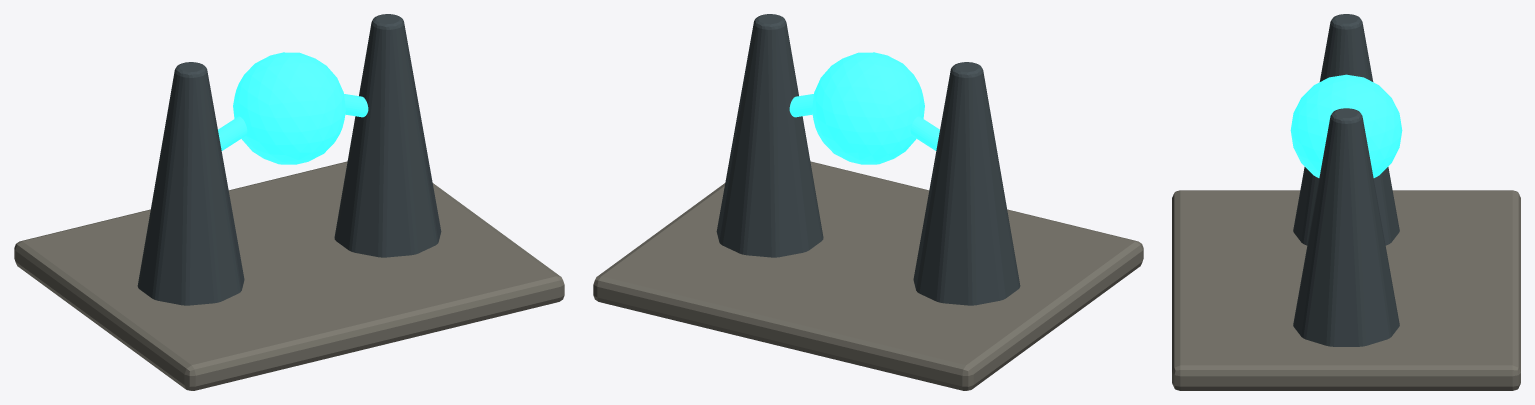
File: human_antimatter.glb
3 views of the same model, side by side, from view 1: azimuth 30°, elevation 25°; view 2: azimuth 150°, elevation 25°; view 3: azimuth 270°, elevation 25° (orthographic).
Visible parts, largest first — view 1: Foundation, ContainmentPylon, ContainmentPylon.001, AntimatterCore, ContainmentArc, ContainmentArc.001; view 2: Foundation, ContainmentPylon, ContainmentPylon.001, AntimatterCore, ContainmentArc, ContainmentArc.001; view 3: Foundation, ContainmentPylon.001, AntimatterCore, ContainmentPylon.
Part boxes in pixels (bbox=[...]): Foundation: bbox=[14, 161, 564, 390]; ContainmentPylon: bbox=[137, 62, 244, 305]; ContainmentPylon.001: bbox=[334, 14, 441, 257]; AntimatterCore: bbox=[233, 52, 345, 164]; ContainmentArc: bbox=[218, 116, 247, 150]; ContainmentArc.001: bbox=[344, 94, 368, 117]; Foundation: bbox=[593, 161, 1143, 390]; ContainmentPylon: bbox=[913, 62, 1020, 305]; ContainmentPylon.001: bbox=[716, 14, 823, 257]; AntimatterCore: bbox=[812, 52, 924, 164]; ContainmentArc: bbox=[910, 116, 939, 150]; ContainmentArc.001: bbox=[789, 94, 813, 117]; Foundation: bbox=[1172, 190, 1520, 390]; ContainmentPylon.001: bbox=[1293, 108, 1399, 346]; AntimatterCore: bbox=[1290, 74, 1402, 177]; ContainmentPylon: bbox=[1293, 14, 1399, 245].
Size of the model in its own units: 1.85 by 1.12 by 1.5.
